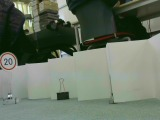speed_20: (1, 50, 17, 71)
